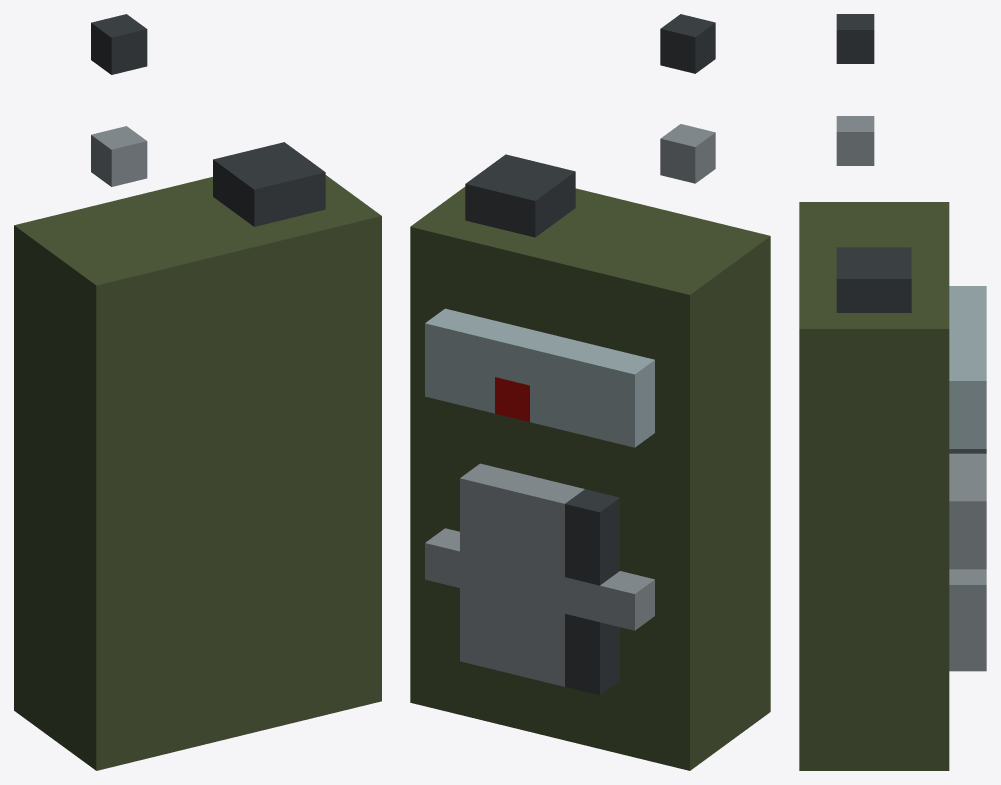
File: portable_radio.glb
3 renders of one model, left to right at view 1: azimuth 30°, elevation 25°; view 2: azimuth 150°, elevation 25°; view 3: azimuth 270°, elevation 25°, orthographic. The views are drawn at different scales.
Visible parts, largest first — view 1: equipment:portableRadio; view 2: equipment:portableRadio; view 3: equipment:portableRadio.
Boxes of the visible parts, bbox=[...] form: equipment:portableRadio: bbox=[14, 14, 381, 770]; equipment:portableRadio: bbox=[410, 14, 770, 770]; equipment:portableRadio: bbox=[799, 14, 986, 770].
Size of the model in its own units: 0.08 by 0.19 by 0.05.
